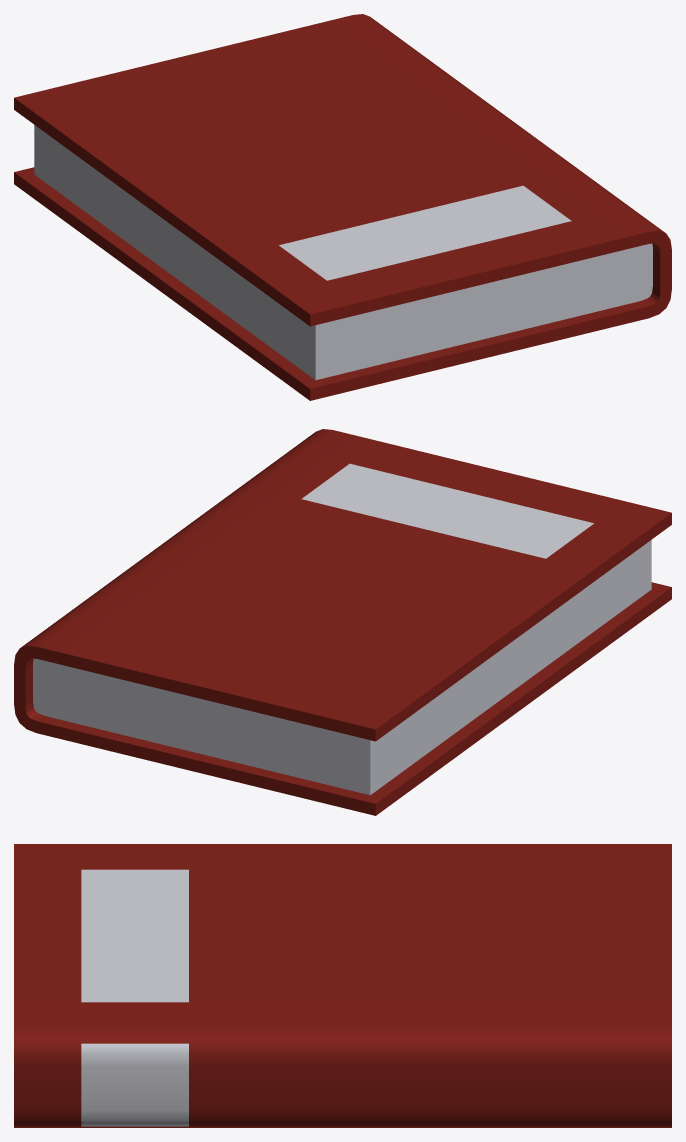
File: Libro Rojo.FBX
3 renders of one model, top to bottom at view 1: azimuth 30°, elevation 25°; view 2: azimuth 150°, elevation 25°; view 3: azimuth 270°, elevation 25°, orthographic. The views are drawn at different scales.
Parts seen in each view (by area): view 1: Book; view 2: Book; view 3: Book.
Part boxes in pixels (x1,y1,x2,y2): Book: [14, 14, 671, 400]; Book: [14, 429, 671, 815]; Book: [14, 844, 671, 1127].
Size of the model in its own units: 48.55 by 68.83 by 11.09.
